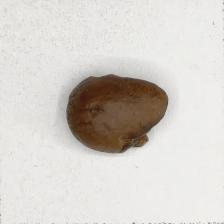NG: (118, 116, 161, 154)
